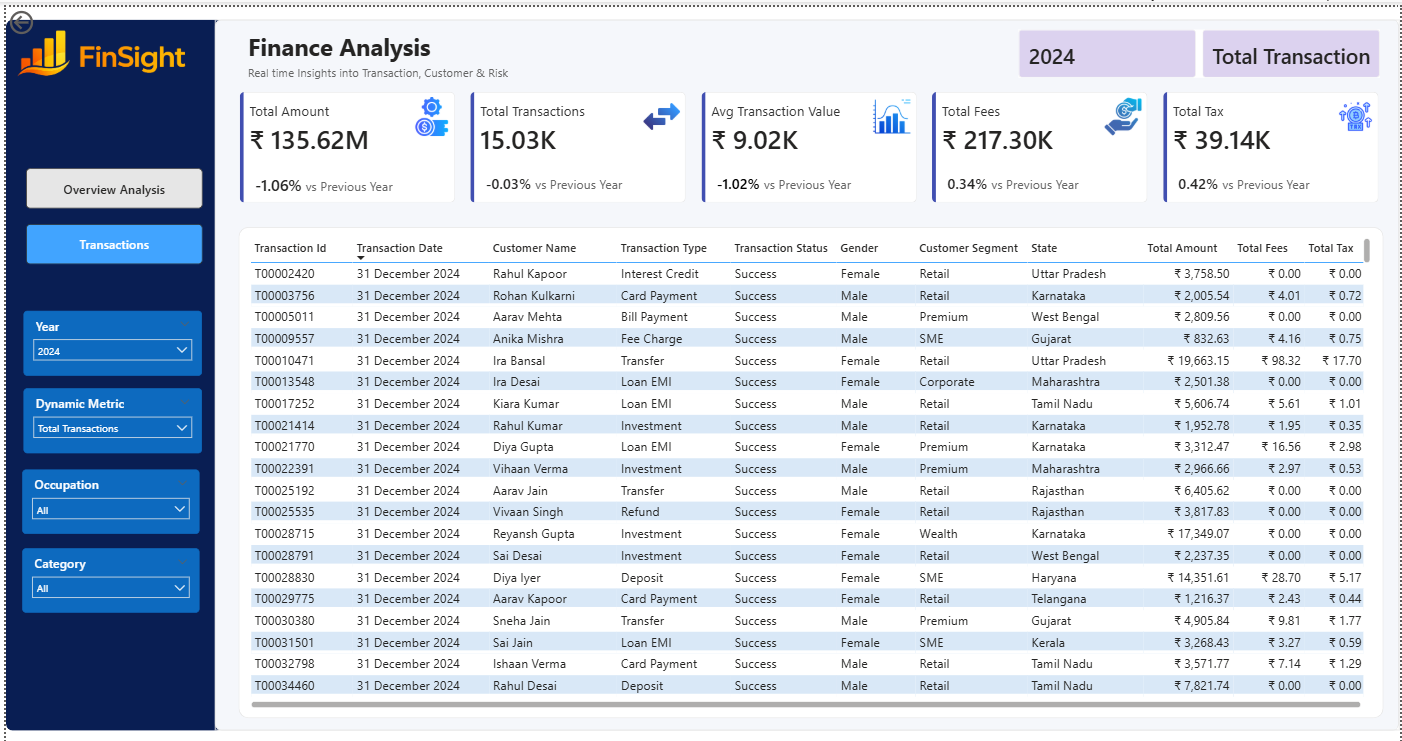

This screenshot's page, from the dashboard's own definition file:
{"tool":"powerbi","page":{"name":"Transactions","canvas":[1800,950],"ordinal":1},"visuals":[{"type":"shape","box":[0,16,280,918],"z":0},{"type":"shape","box":[270,16,1530,918],"z":1000},{"type":"image","box":[0,16,252,88],"z":2000},{"type":"cardVisual","fields":{"Data":["finance_transactions.Dashboard Title"]},"box":[296,16,370,92],"z":3000},{"type":"cardVisual","fields":{"Data":["finance_transactions.Total Amount","finance_transactions.Total Transactions","finance_transactions.Avg Transaction Value","finance_transactions.Total Fees","finance_transactions.Total Tax"]},"box":[296,104,1482,155],"z":4000},{"type":"image","box":[524,116,50,50],"z":5000},{"type":"image","box":[822,116,50,50],"z":6000},{"type":"image","box":[1416,116,50,50],"z":7000},{"type":"image","box":[1118,116,50,50],"z":8000},{"type":"image","box":[1716,116,50,50],"z":9000},{"type":"shape","box":[300,284,1478,634],"z":10000},{"type":"cardVisual","fields":{"Data":["finance_transactions.Selected Year","finance_transactions.Selected Dynamic Measure"]},"box":[1302,24,476,72],"z":11000},{"type":"tableEx","fields":{"Values":["finance_transactions.transaction_id","finance_transactions.transaction_date","customers.customer_name","finance_transactions.transaction_type","finance_transactions.transaction_status","customers.gender","customers.customer_segment","customers.state","finance_transactions.Total Amount","finance_transactions.Total Fees","finance_transactions.Total Tax"]},"box":[310,294,1456,616],"z":12000},{"type":"actionButton","box":[0,0,100,40],"z":13000},{"type":"slicer","fields":{"Values":["calendar table.Year"]},"box":[22,392,230,84],"z":14000},{"type":"slicer","fields":{"Values":["Dynamic Metric.Dynamic Metric"]},"box":[22,492,230,84],"z":15000},{"type":"slicer","fields":{"Values":["customers.occupation"]},"box":[21.3,596.8,228.9,83.4],"z":16000},{"type":"slicer","fields":{"Values":["finance_transactions.merchant_category"]},"box":[21.3,698.2,228.9,83.4],"z":17000},{"type":"pageNavigator","box":[26.2,207.7,228.9,124.3],"z":18000}]}

Visuals, with their boxes in screenshot pixels (x1, y1, x2, y2), scaled from the page's 1800x950 canvas onto the 1402x741 screenshot:
shape: locate(0, 12, 218, 729)
shape: locate(210, 12, 1401, 729)
image: locate(0, 12, 196, 81)
cardVisual - finance_transactions.Dashboard Title: locate(231, 12, 519, 84)
cardVisual - finance_transactions.Total Amount x finance_transactions.Total Transactions: locate(231, 81, 1385, 202)
image: locate(408, 90, 447, 129)
image: locate(640, 90, 679, 129)
image: locate(1103, 90, 1142, 129)
image: locate(871, 90, 910, 129)
image: locate(1337, 90, 1376, 129)
shape: locate(234, 222, 1385, 716)
cardVisual - finance_transactions.Selected Year x finance_transactions.Selected Dynamic Measure: locate(1014, 19, 1385, 75)
tableEx - finance_transactions.transaction_id x finance_transactions.transaction_date: locate(241, 229, 1376, 710)
actionButton: locate(0, 0, 78, 31)
slicer - calendar table.Year: locate(17, 306, 196, 371)
slicer - Dynamic Metric.Dynamic Metric: locate(17, 384, 196, 449)
slicer - customers.occupation: locate(17, 466, 195, 531)
slicer - finance_transactions.merchant_category: locate(17, 545, 195, 610)
pageNavigator: locate(20, 162, 199, 259)
